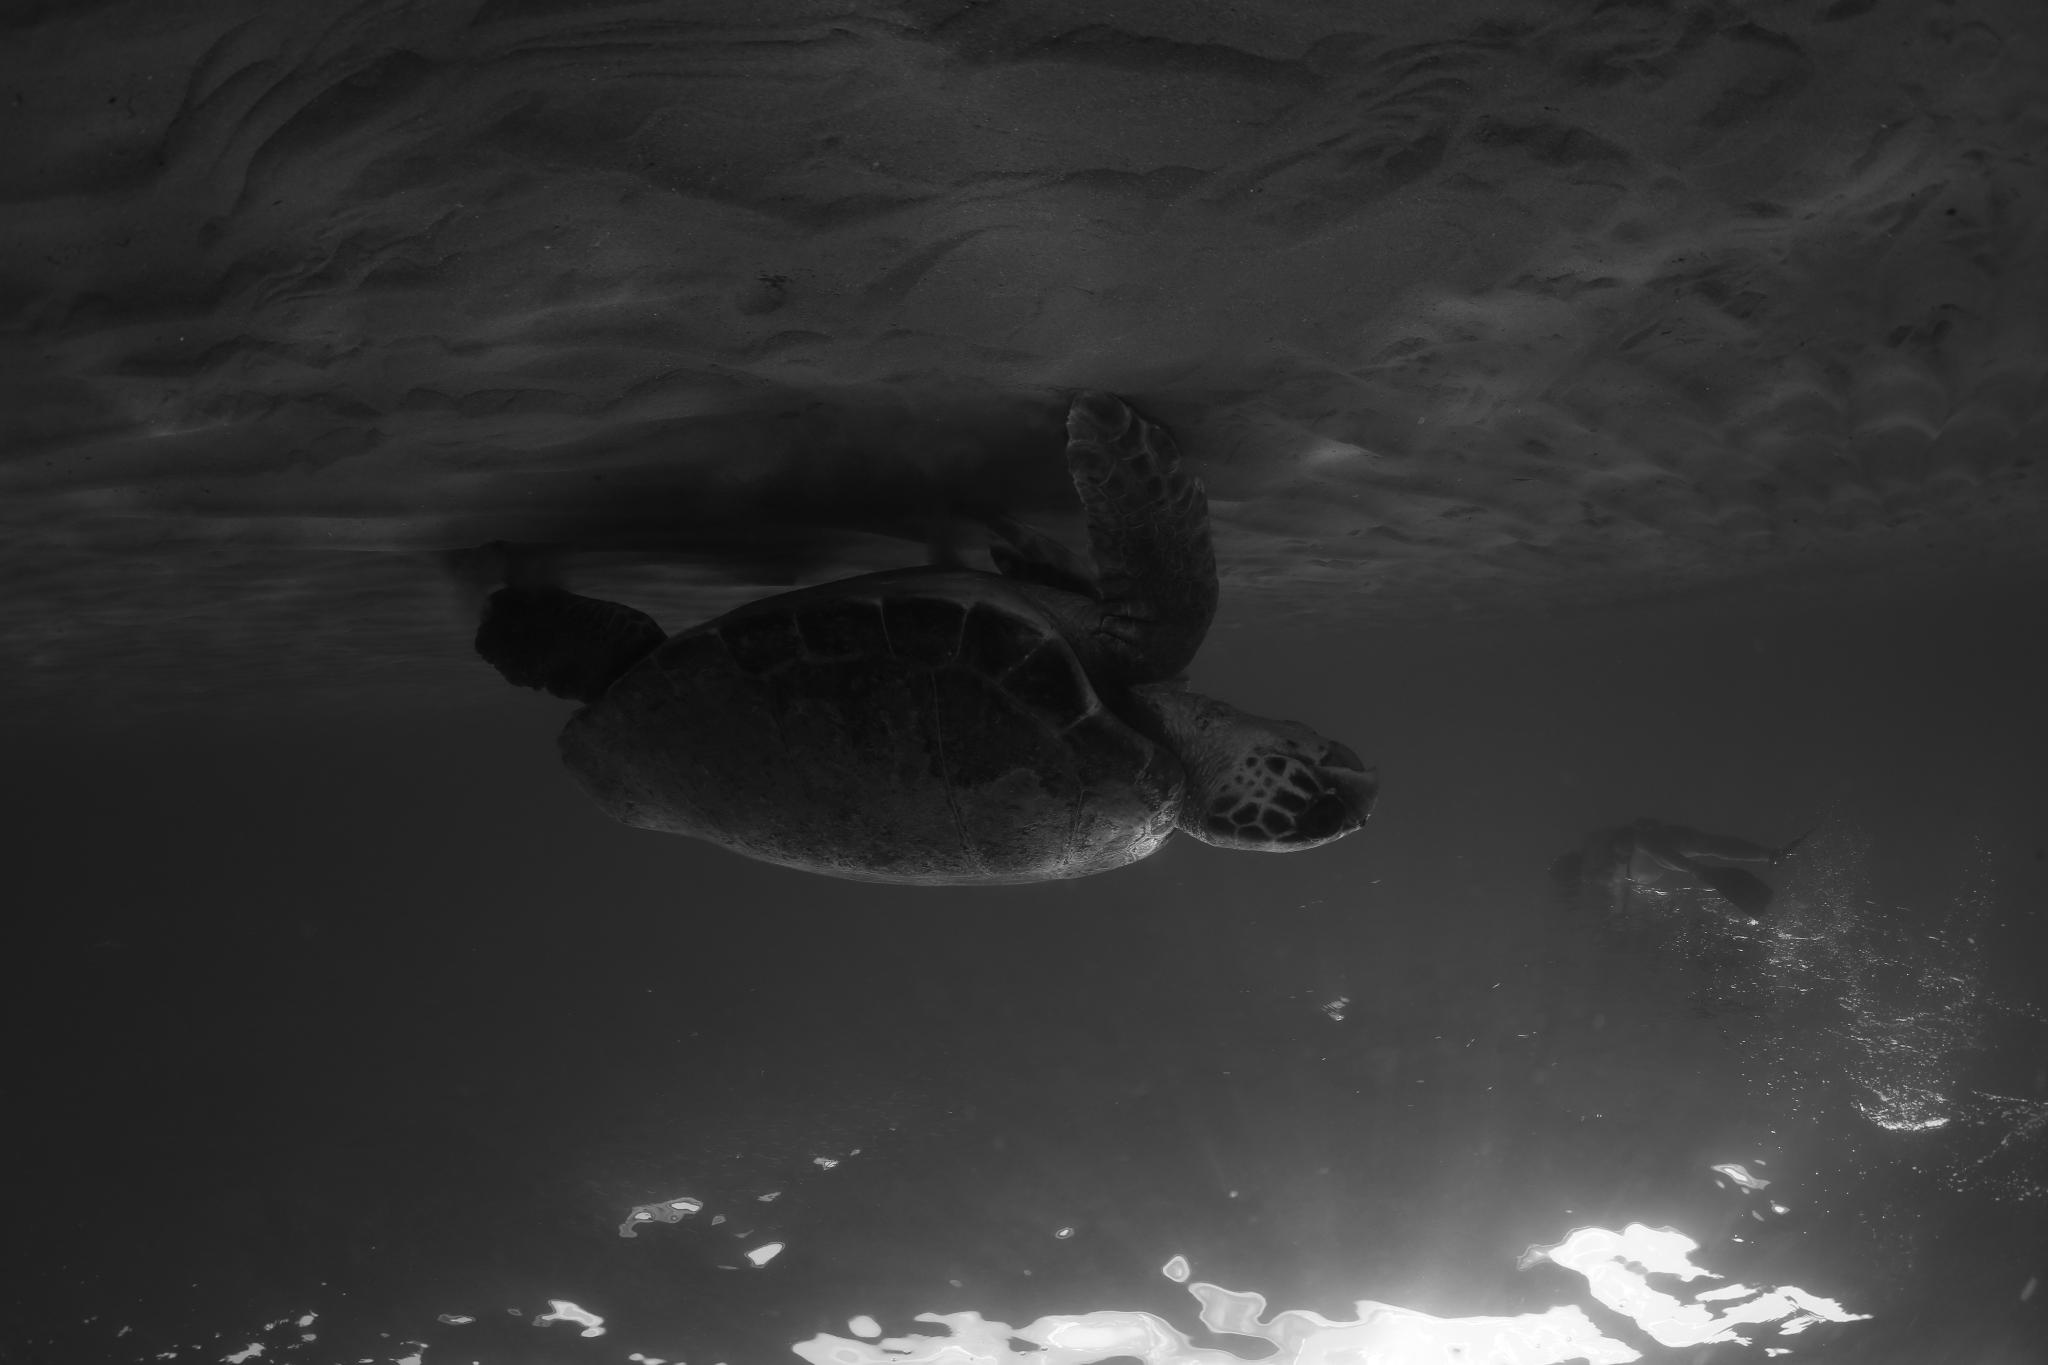Head: (1161, 692, 1379, 852)
